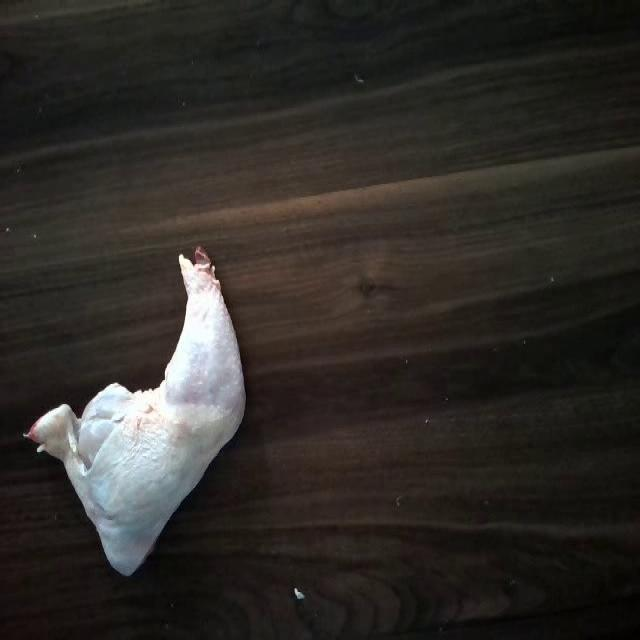quater: (43, 240, 249, 582)
